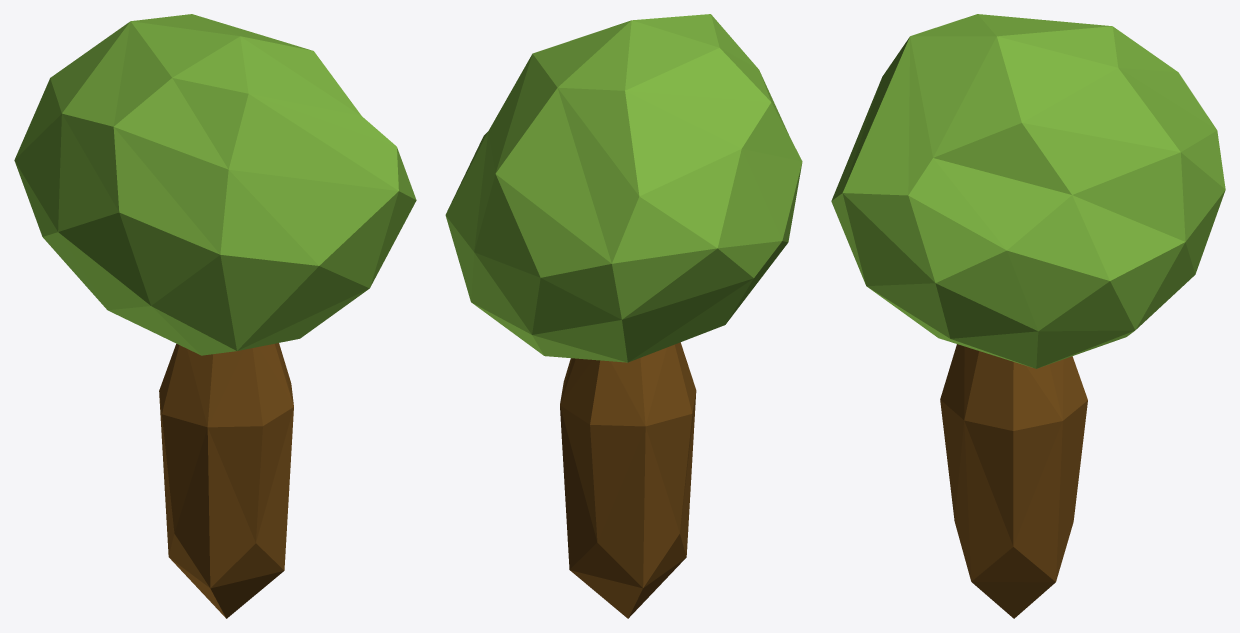
The picture shows the model from 3 angles, left to right: view 1: azimuth 30°, elevation 25°; view 2: azimuth 150°, elevation 25°; view 3: azimuth 270°, elevation 25°; orthographic projection.
Visible parts, largest first — view 1: Icosphere_059; view 2: Icosphere_059; view 3: Icosphere_059.
Boxes of the visible parts, x1=… form: Icosphere_059: x1=14, y1=14, x2=416, y2=618; Icosphere_059: x1=445, y1=14, x2=802, y2=618; Icosphere_059: x1=831, y1=14, x2=1225, y2=618.
Bounding box in the file's own units: 1.2 × 1.32 × 2.17.
